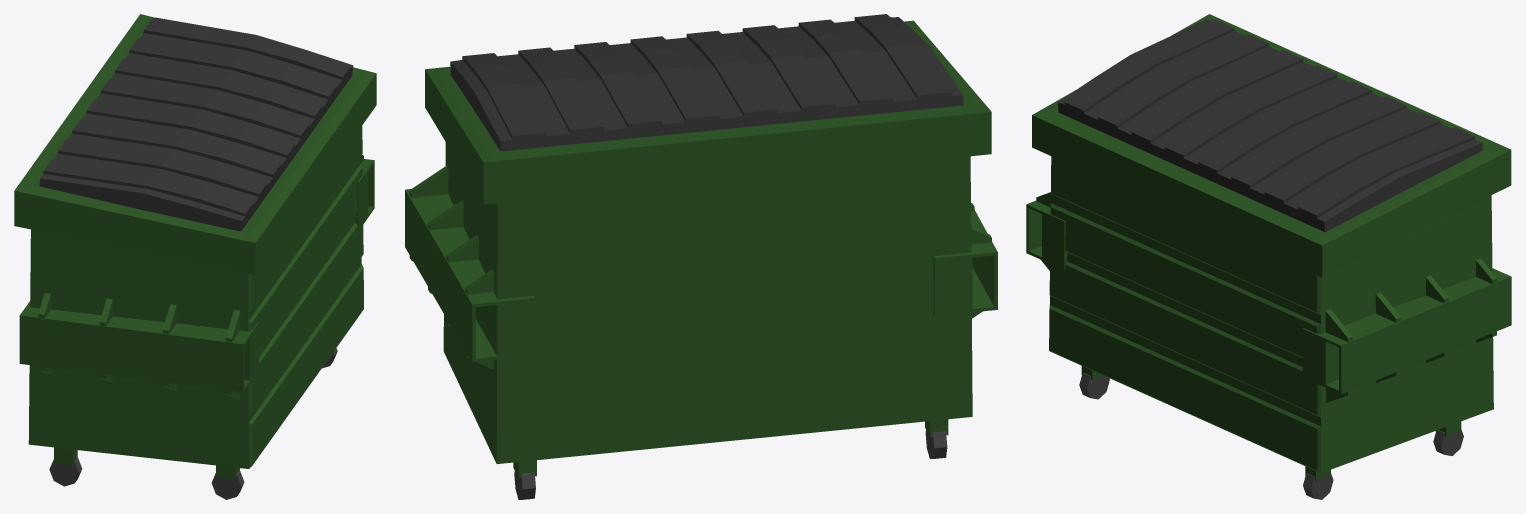
Rendered from Dumpster.fbx.
3 views of the same model, side by side, from view 1: azimuth 30°, elevation 25°; view 2: azimuth 150°, elevation 25°; view 3: azimuth 270°, elevation 25° (orthographic). The views are drawn at different scales.
Visible parts, largest first — view 1: Dumpster; view 2: Dumpster; view 3: Dumpster.
Part boxes in pixels (x1,y1,x2,y2): Dumpster: [14, 14, 376, 499]; Dumpster: [405, 14, 997, 499]; Dumpster: [1026, 14, 1511, 499].
Size of the model in its own units: 150 by 106 by 147.
